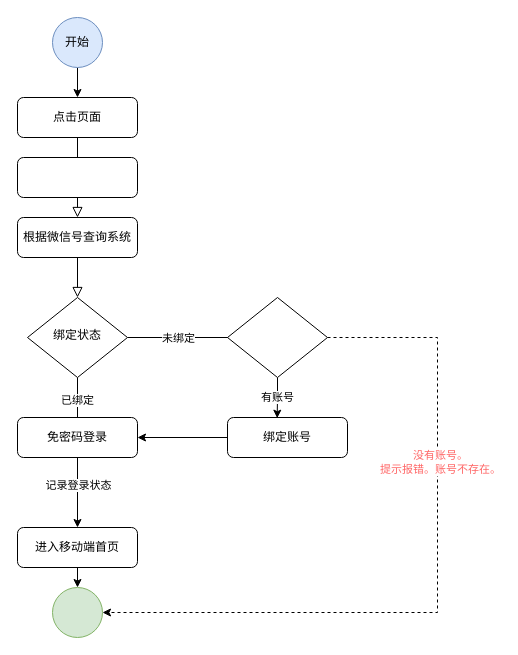
Image size: 518x655. Some labels were removed from this diagram. The box of each missing label's shape, as (x1, y1, x2, y2) in pixels:
结束: (52, 586, 102, 638)
获取微信号: (16, 156, 138, 198)
账号状态: (226, 296, 328, 378)
